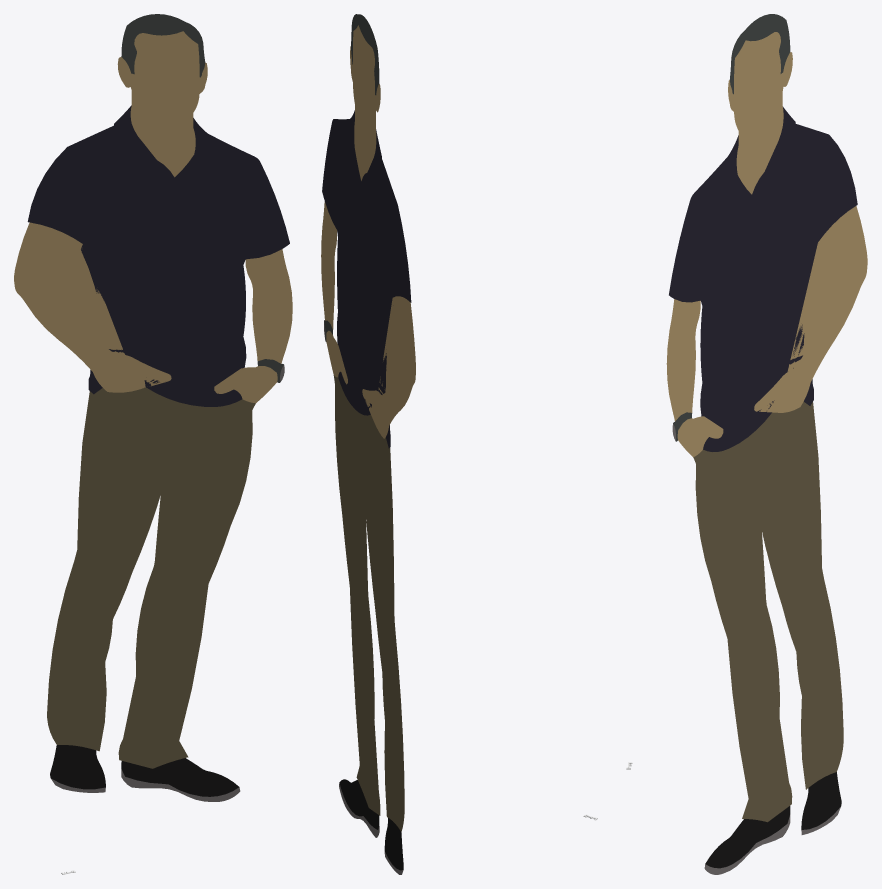
Rendered from Homework.fbx.
3 renders of one model, left to right at view 1: azimuth 30°, elevation 25°; view 2: azimuth 150°, elevation 25°; view 3: azimuth 270°, elevation 25°, orthographic. The views are drawn at different scales.
Parts seen in each view (by area): view 1: Chris1; view 2: Chris1; view 3: Chris1.
Part boxes in pixels (x1,y1,x2,y2): Chris1: (14, 14, 292, 801); Chris1: (321, 14, 415, 874); Chris1: (666, 14, 867, 874).
Bounding box in the file's own units: 583 × 1765 × 459.
